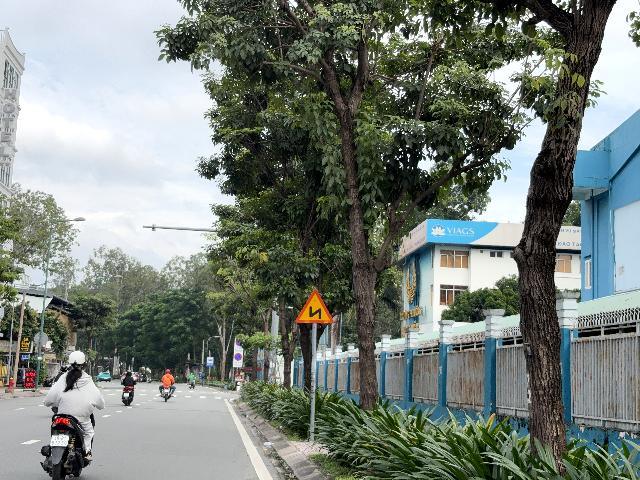nhieu-cho-ngoat-nguy-hiem-lien-tiep: (296, 289, 334, 323)
